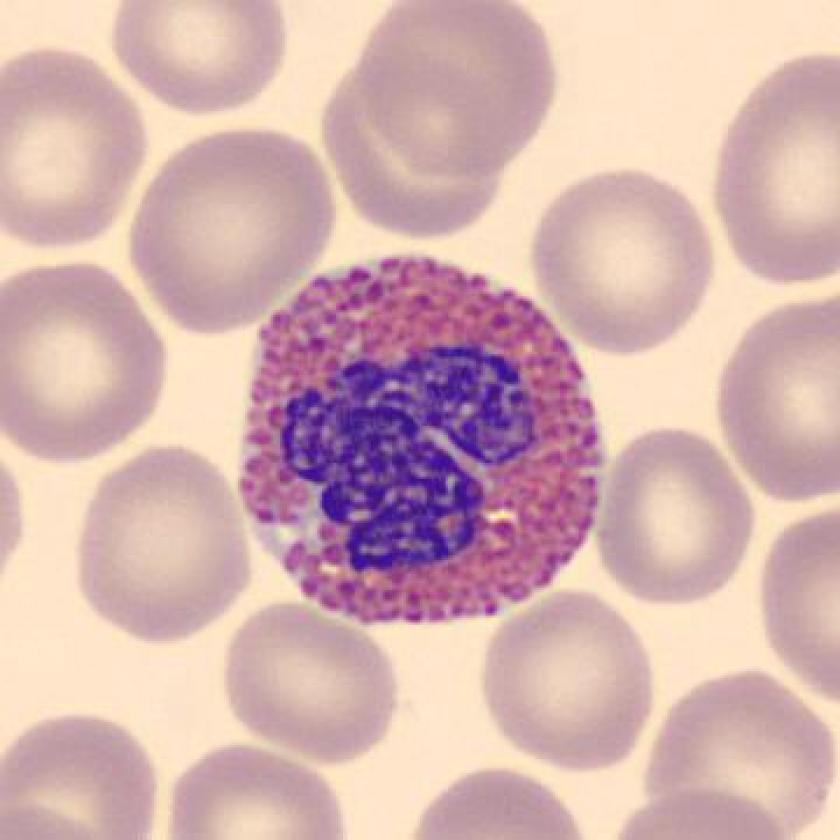eosinophil: (220, 249, 615, 635)
